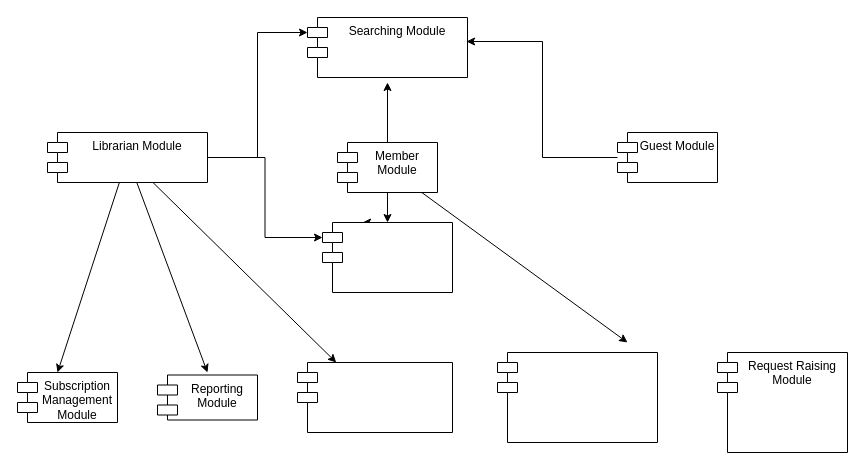
The diagram is 865 pixels wide and 470 high, and some of its shapes have lost their labels. The centre of each missing label's shape, as x and y in pixels:
"Authentication Module" goes at pixel 387 257.
"Book Catalog Managment Module" goes at pixel 374 397.
"User Managment Module" goes at pixel 577 397.
